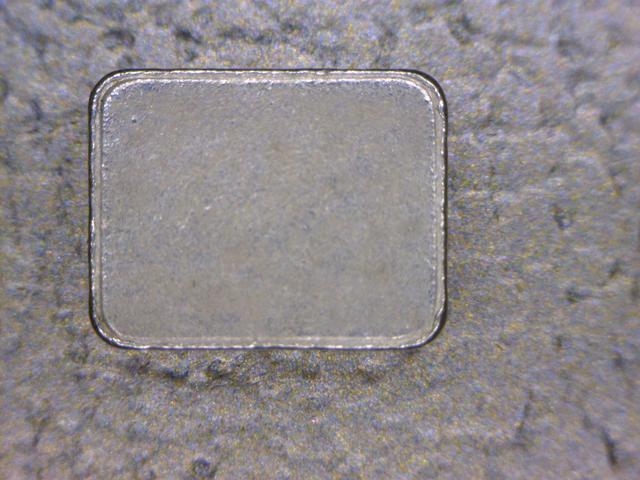nok: (76, 59, 458, 358)
